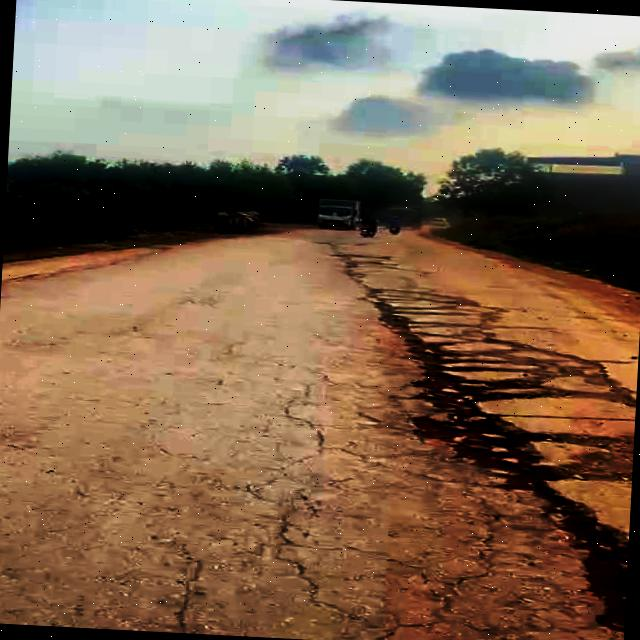pothole: (402, 410, 634, 636), (373, 312, 640, 434)
